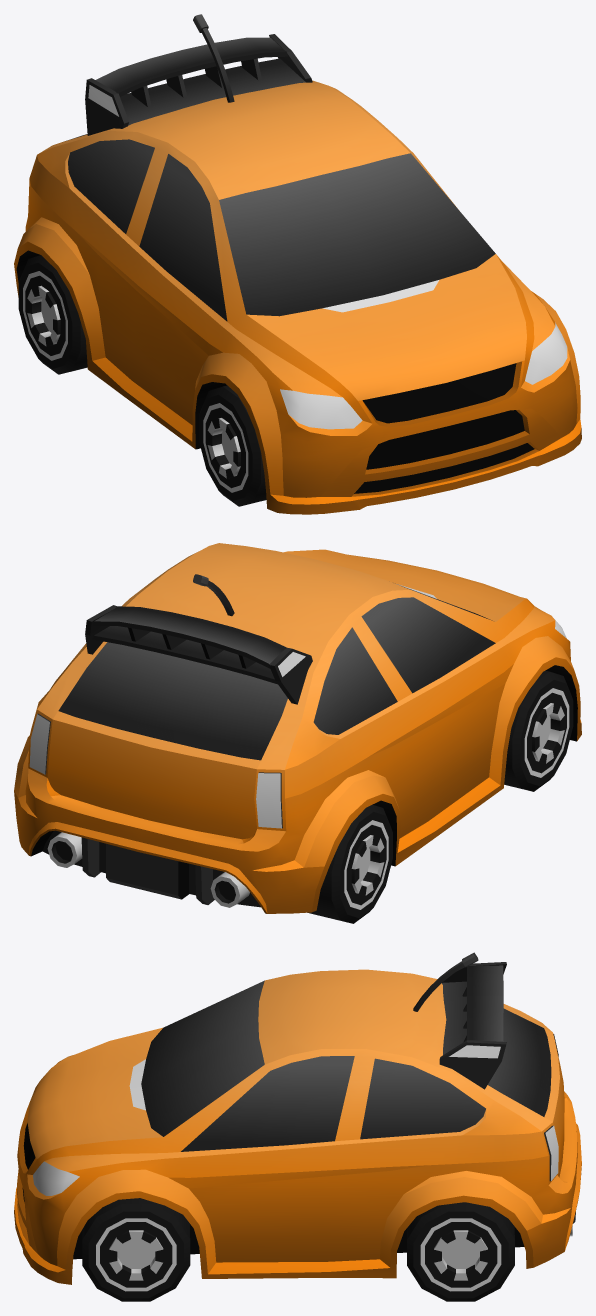
3 views of the same model, one above another, from view 1: azimuth 30°, elevation 25°; view 2: azimuth 150°, elevation 25°; view 3: azimuth 270°, elevation 25° (orthographic). The views are drawn at different scales.
Visible parts, largest first — view 1: 2, heliostire.008, heliostire.009; view 2: 2, heliostire.009, heliostire.008; view 3: 2, heliostire.011, heliostire.010.
Part boxes in pixels (bbox=[...]): 2: bbox=[14, 14, 581, 514]; heliostire.008: bbox=[199, 385, 266, 506]; heliostire.009: bbox=[18, 255, 87, 374]; 2: bbox=[14, 543, 581, 913]; heliostire.009: bbox=[307, 804, 392, 923]; heliostire.008: bbox=[504, 670, 573, 791]; 2: bbox=[14, 952, 581, 1284]; heliostire.011: bbox=[82, 1198, 190, 1301]; heliostire.010: bbox=[407, 1202, 514, 1301].
Size of the model in its own units: 200 by 181 by 333.
